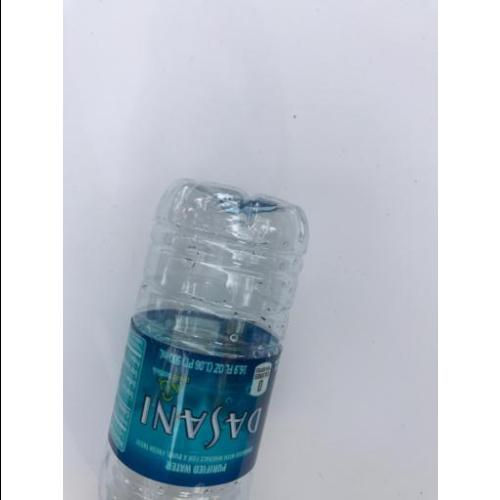plastic: (96, 177, 309, 500)
